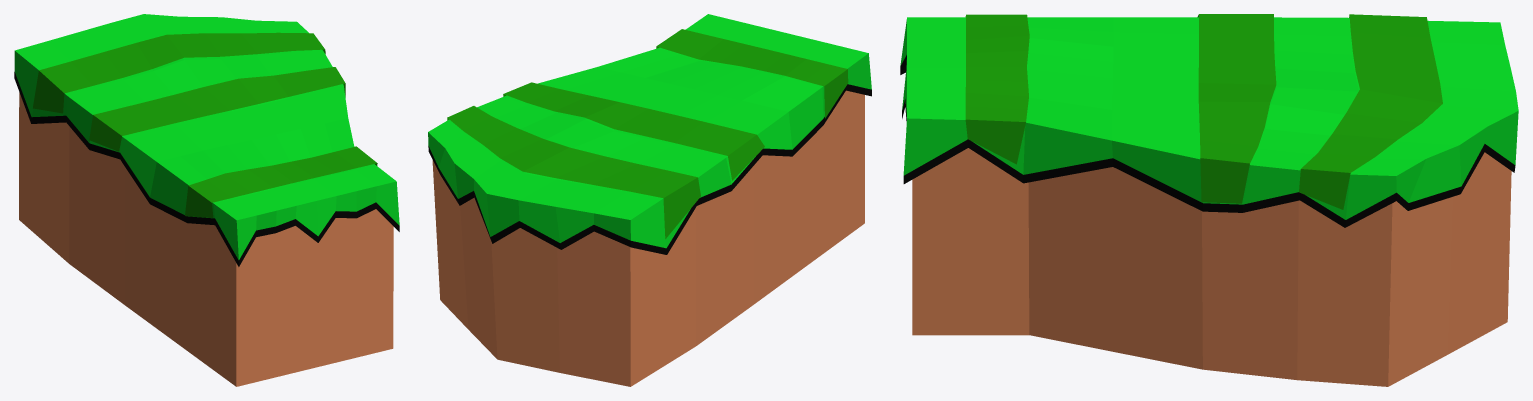
Rendered from Platform05.fbx.
3 renders of one model, left to right at view 1: azimuth 30°, elevation 25°; view 2: azimuth 150°, elevation 25°; view 3: azimuth 270°, elevation 25°, orthographic. The views are drawn at different scales.
Parts seen in each view (by area): view 1: Cube.014; view 2: Cube.014; view 3: Cube.014.
Part boxes in pixels (x1=…): Cube.014: x1=14, y1=14, x2=399, y2=386; Cube.014: x1=428, y1=14, x2=871, y2=386; Cube.014: x1=900, y1=14, x2=1518, y2=386.
Bounding box in the file's own units: 685 × 441 × 1105.
